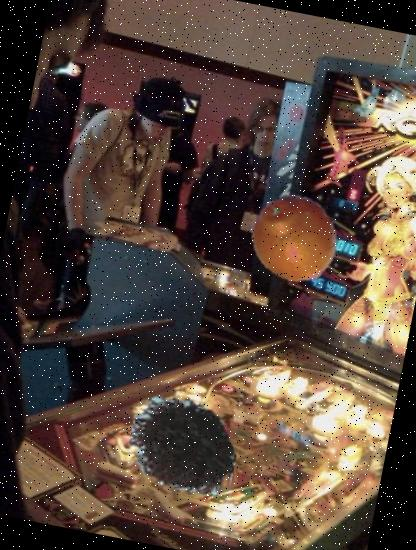Rambutan: (119, 381, 248, 509)
Tangelo: (242, 184, 350, 291)
